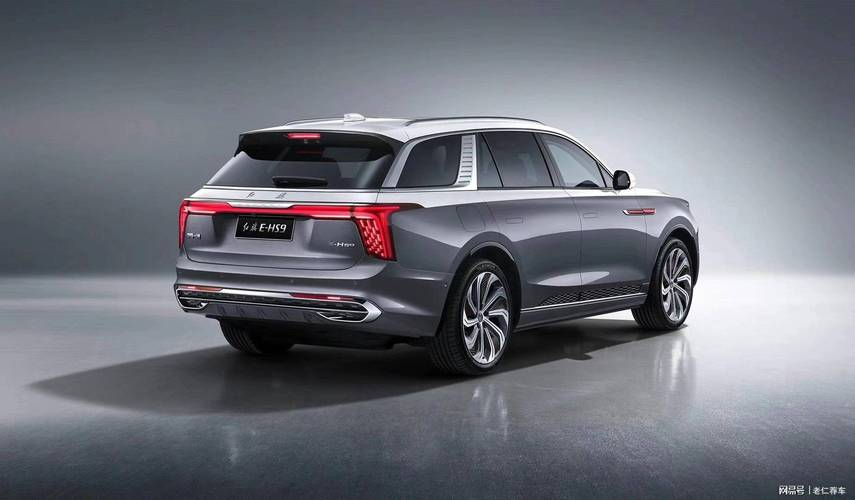汽车: (156, 102, 736, 398)
